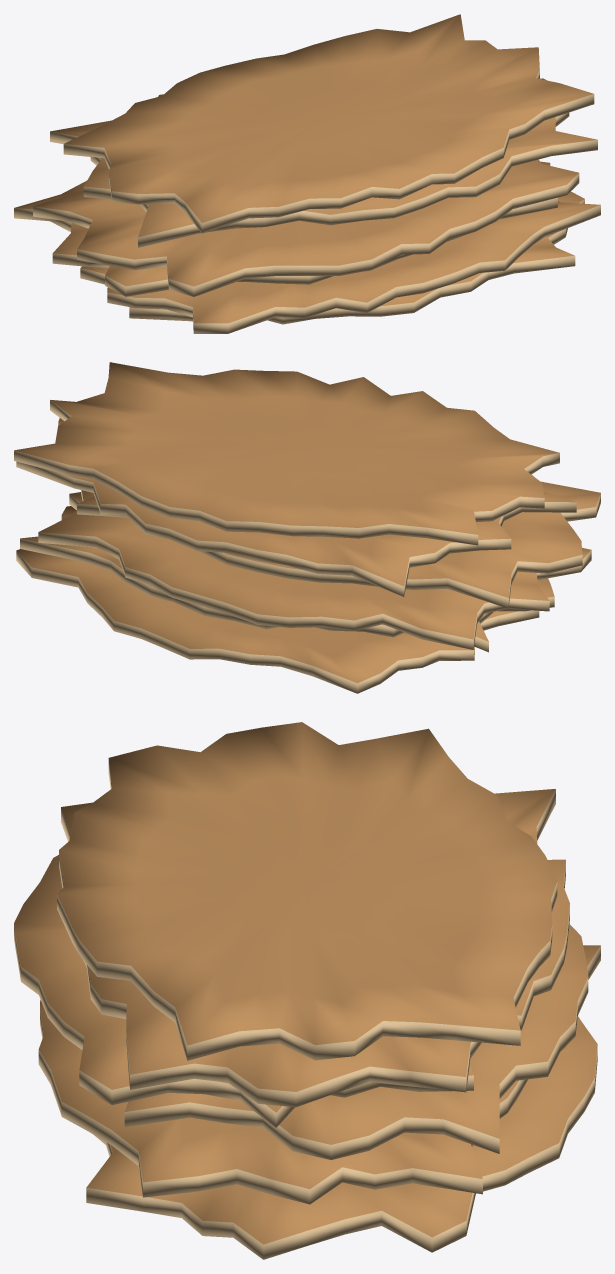
File: w3d_pelt_hide_l.glb
The picture shows the model from 3 angles, top to bottom: view 1: azimuth 30°, elevation 25°; view 2: azimuth 150°, elevation 25°; view 3: azimuth 270°, elevation 25°; orthographic projection. The views are drawn at different scales.
Visible parts, largest first — view 1: w3d_pelt_hide_l; view 2: w3d_pelt_hide_l; view 3: w3d_pelt_hide_l.
Part boxes in pixels (left/top/right/bottom): w3d_pelt_hide_l: left=14, top=14, right=600, bottom=333; w3d_pelt_hide_l: left=14, top=362, right=600, bottom=693; w3d_pelt_hide_l: left=14, top=722, right=600, bottom=1259.
Size of the model in its own units: 0.8176 by 0.2238 by 0.5587.
